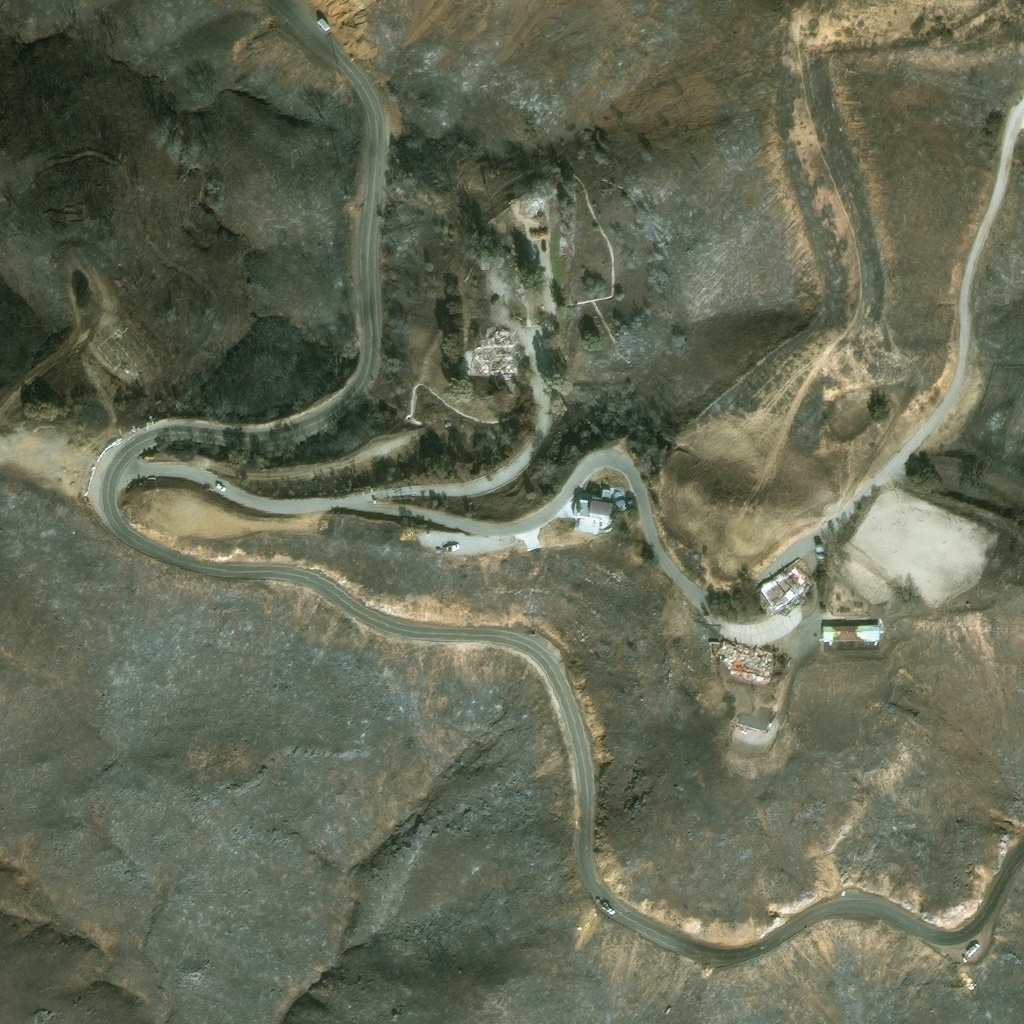0 no-damage: (576, 487, 615, 518), (317, 15, 330, 30), (616, 497, 626, 507), (814, 542, 823, 550), (614, 488, 622, 496), (815, 551, 824, 558)
1 minor-damage: (821, 624, 878, 640)
2 major-damage: (502, 248, 512, 258)
3 destroyed: (760, 560, 811, 611), (717, 637, 776, 680), (472, 338, 517, 371), (495, 230, 515, 248), (991, 407, 1006, 427), (524, 198, 545, 212), (491, 329, 508, 335)
